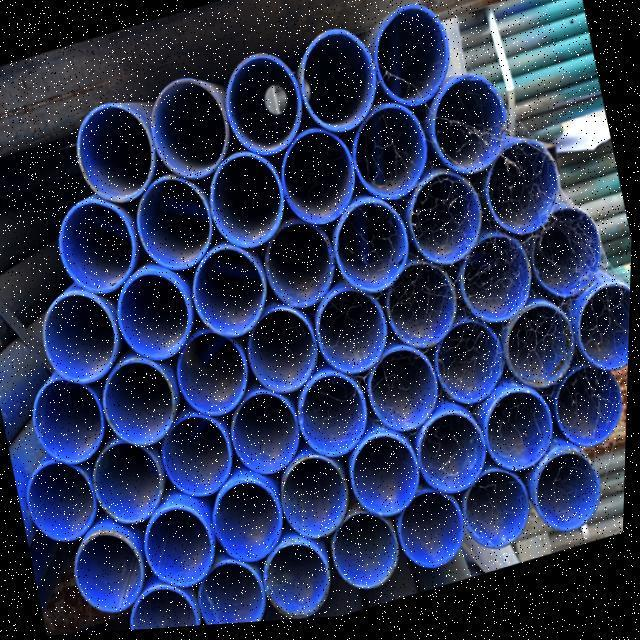pipe: (428, 80, 519, 181), (74, 102, 158, 206), (366, 7, 449, 110), (291, 31, 373, 134), (151, 77, 230, 183), (526, 213, 614, 307), (134, 175, 214, 276), (60, 197, 139, 299), (32, 377, 118, 470), (42, 291, 125, 387), (406, 172, 485, 272), (226, 55, 302, 158), (487, 148, 566, 247), (277, 132, 355, 232), (193, 247, 274, 343), (211, 153, 288, 253), (350, 111, 428, 207), (115, 272, 197, 363), (334, 202, 410, 300), (99, 360, 178, 454), (92, 441, 171, 529), (263, 224, 340, 314), (461, 238, 534, 331), (213, 478, 289, 567), (384, 265, 457, 357), (247, 309, 322, 398), (176, 333, 251, 422), (366, 353, 441, 442), (229, 392, 304, 480), (158, 417, 236, 501), (315, 292, 391, 378), (502, 307, 576, 395), (278, 458, 354, 543), (294, 375, 368, 460), (143, 507, 219, 589), (31, 464, 107, 546), (351, 437, 421, 525), (433, 322, 501, 411), (418, 416, 488, 500), (554, 369, 623, 454), (77, 533, 150, 613), (484, 393, 553, 477), (535, 459, 603, 542), (399, 494, 467, 575), (466, 476, 533, 557), (335, 519, 404, 597), (266, 550, 335, 624), (579, 289, 632, 382), (194, 566, 267, 628), (132, 592, 204, 632)
